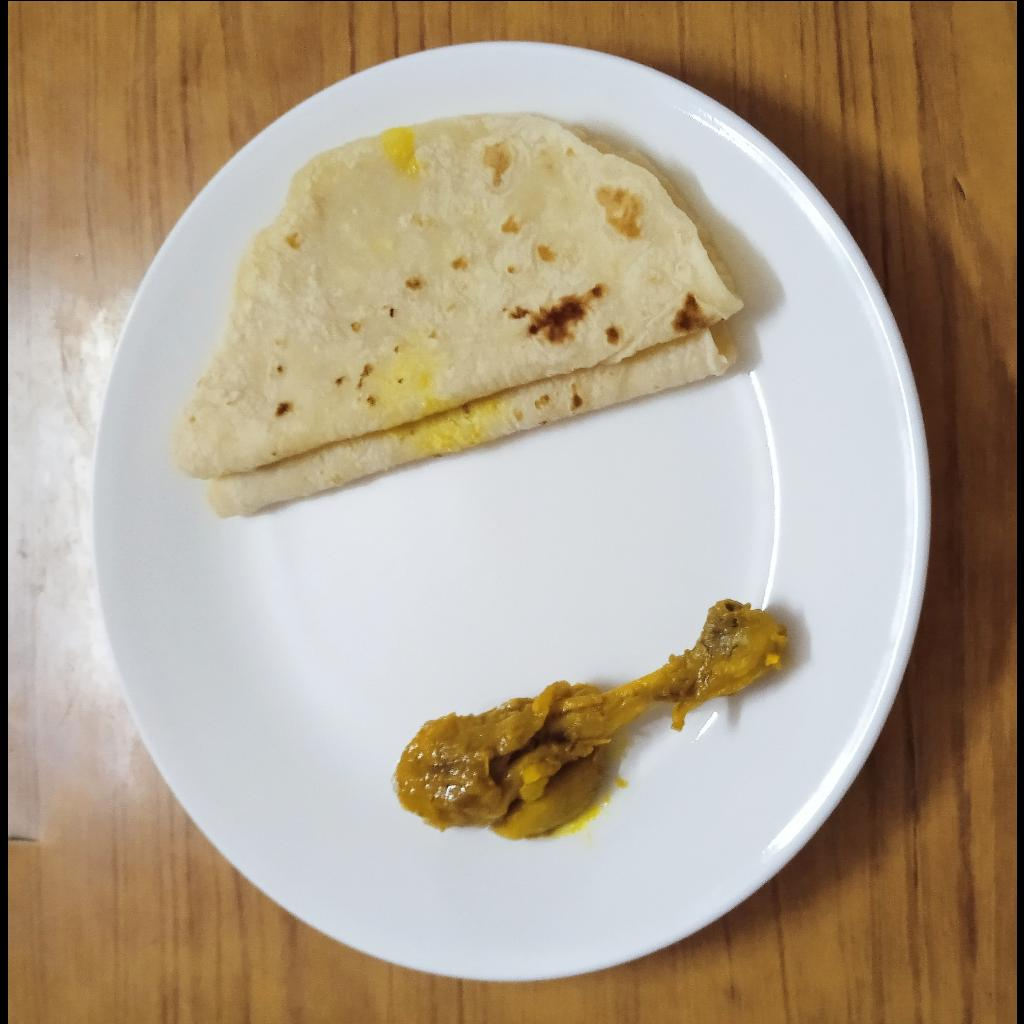chicken: (396, 594, 792, 838)
ruti: (170, 108, 748, 523)
